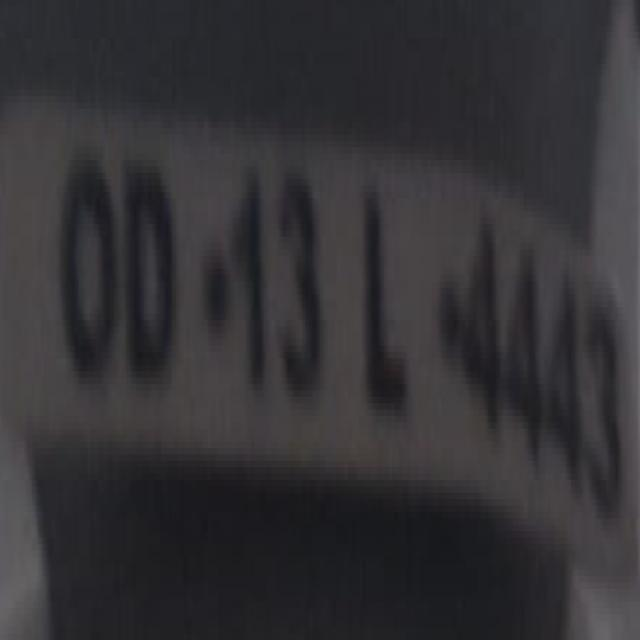1: (228, 139, 269, 407)
3: (274, 150, 325, 424), (586, 296, 621, 555)
4: (459, 183, 502, 450), (544, 254, 584, 527), (504, 221, 542, 479)
D: (124, 142, 176, 396)
L: (362, 170, 410, 433)
O: (56, 126, 120, 400)
